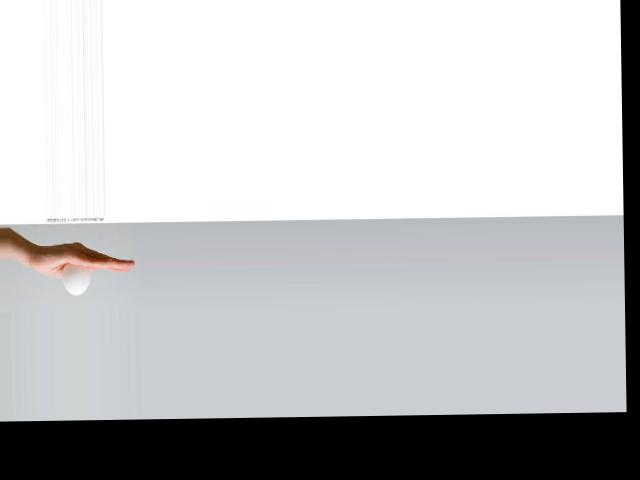egg: (63, 262, 90, 295)
